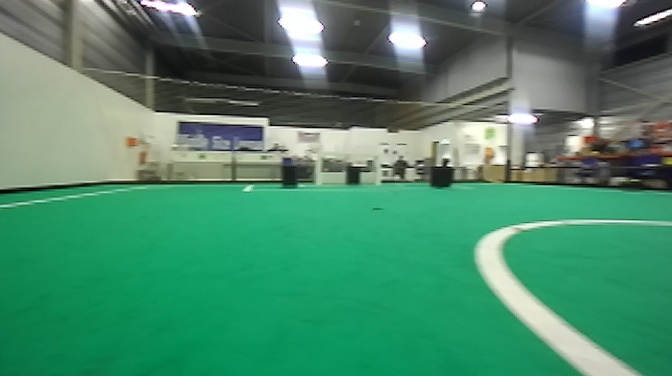goalpost: (368, 148, 382, 182), (313, 148, 324, 185)
